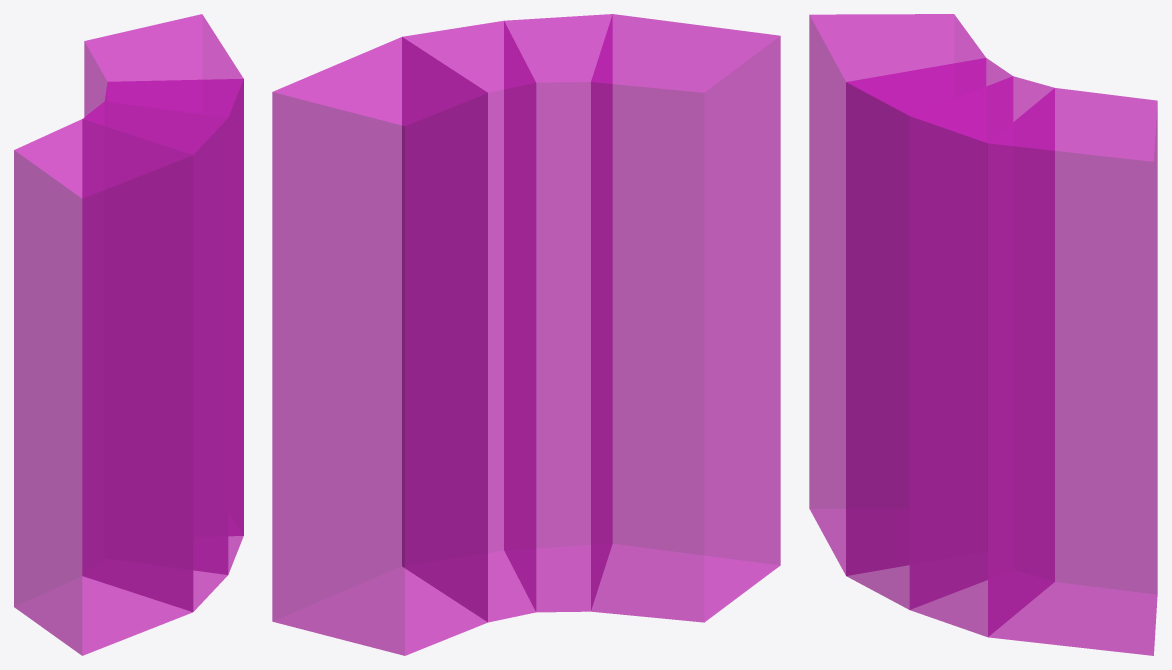
Rendered from SM_Bld_Wall_L_Curve_03_Collision.fbx.
3 views of the same model, side by side, from view 1: azimuth 30°, elevation 25°; view 2: azimuth 150°, elevation 25°; view 3: azimuth 270°, elevation 25° (orthographic). The views are drawn at different scales.
Visible parts, largest first — view 1: SM_Bld_Wall_L_Curve_03_Collision; view 2: SM_Bld_Wall_L_Curve_03_Collision; view 3: SM_Bld_Wall_L_Curve_03_Collision.
Boxes of the visible parts, <box> form: SM_Bld_Wall_L_Curve_03_Collision: <box>14,14,243,655</box>; SM_Bld_Wall_L_Curve_03_Collision: <box>272,14,780,655</box>; SM_Bld_Wall_L_Curve_03_Collision: <box>809,14,1157,655</box>.
Size of the model in its own units: 389 by 605 by 387.
